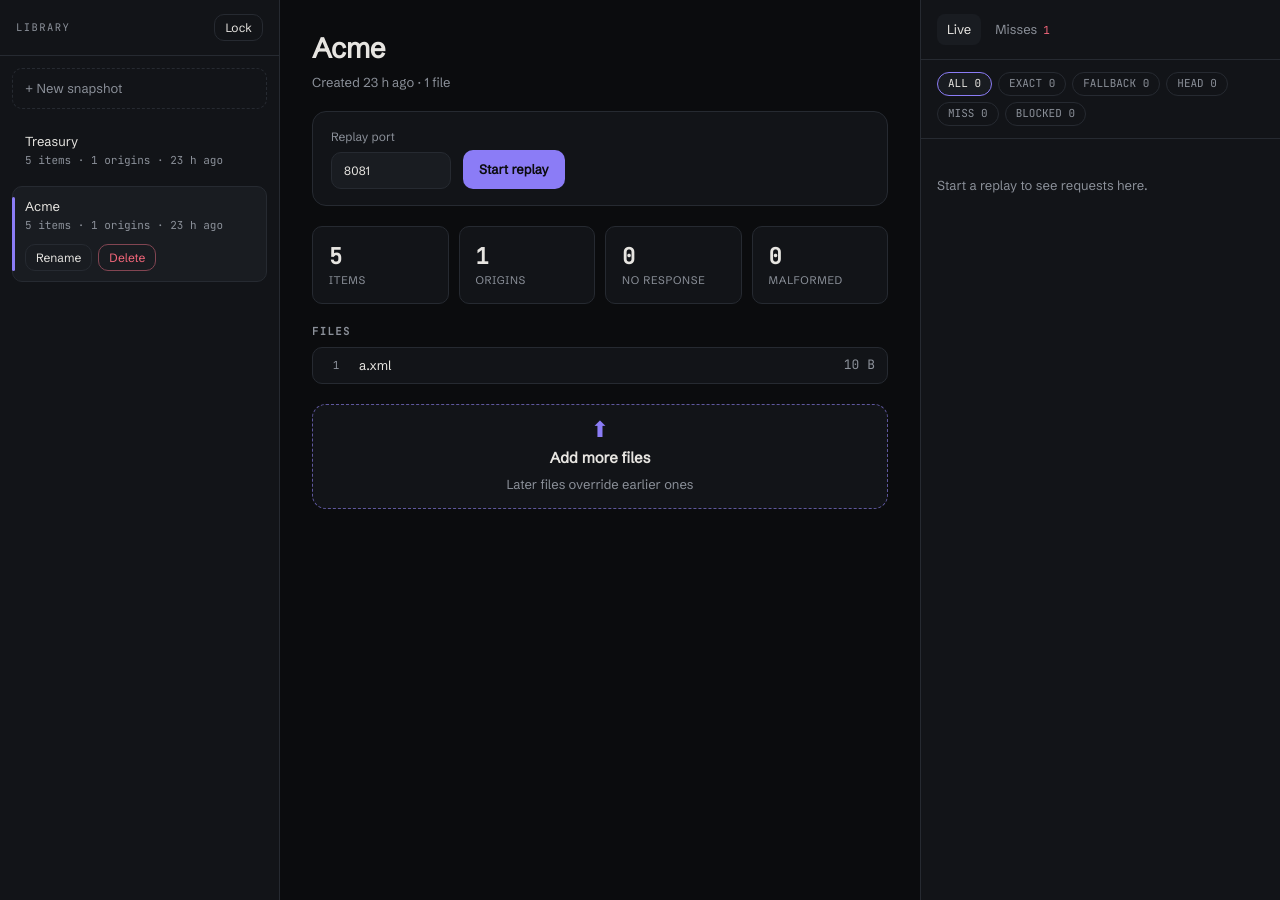
misses events fill the Misses tab
Expected: the heading "Acme" is shown, [312,31,385,65]
Click the tab "Misses1" at x=1023, y=29, box [985,14,1060,45]
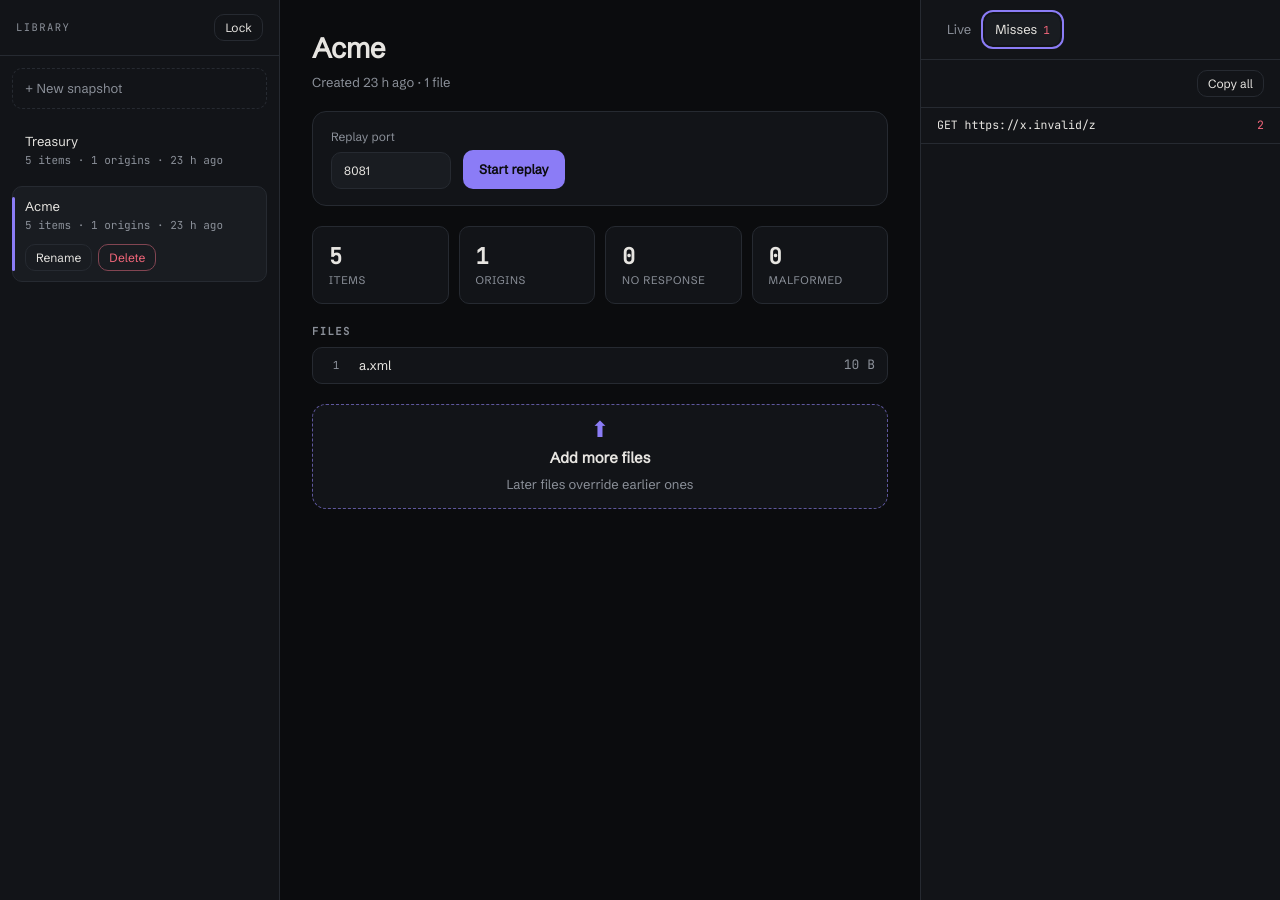
Result: the text "GET https://x.invalid/z" is shown at [937,117,1096,132]
